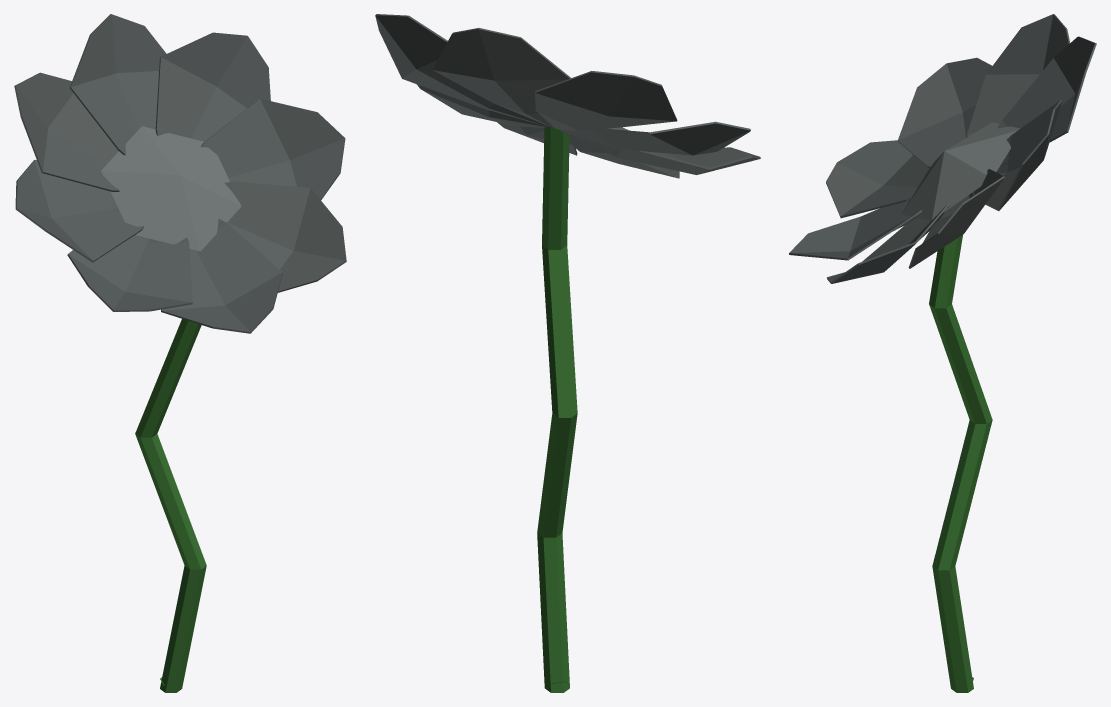
The model's file is Flower_5_Gray.fbx.
3 renders of one model, left to right at view 1: azimuth 30°, elevation 25°; view 2: azimuth 150°, elevation 25°; view 3: azimuth 270°, elevation 25°, orthographic. The views are drawn at different scales.
Visible parts, largest first — view 1: Flower_5_Gray_Part_2, Flower_5_Gray_Part_3, Flower_5_Gray_Part_1; view 2: Flower_5_Gray_Part_2, Flower_5_Gray_Part_1; view 3: Flower_5_Gray_Part_2, Flower_5_Gray_Part_1, Flower_5_Gray_Part_3.
Part boxes in pixels (bbox=[...]): Flower_5_Gray_Part_2: bbox=[14, 14, 346, 333]; Flower_5_Gray_Part_3: bbox=[101, 126, 241, 251]; Flower_5_Gray_Part_1: bbox=[135, 319, 206, 692]; Flower_5_Gray_Part_2: bbox=[375, 14, 760, 178]; Flower_5_Gray_Part_1: bbox=[537, 127, 577, 692]; Flower_5_Gray_Part_2: bbox=[789, 14, 1096, 283]; Flower_5_Gray_Part_1: bbox=[929, 235, 992, 692]; Flower_5_Gray_Part_3: bbox=[901, 122, 1020, 220].
Size of the model in its own units: 20.28 by 37.24 by 16.04.
